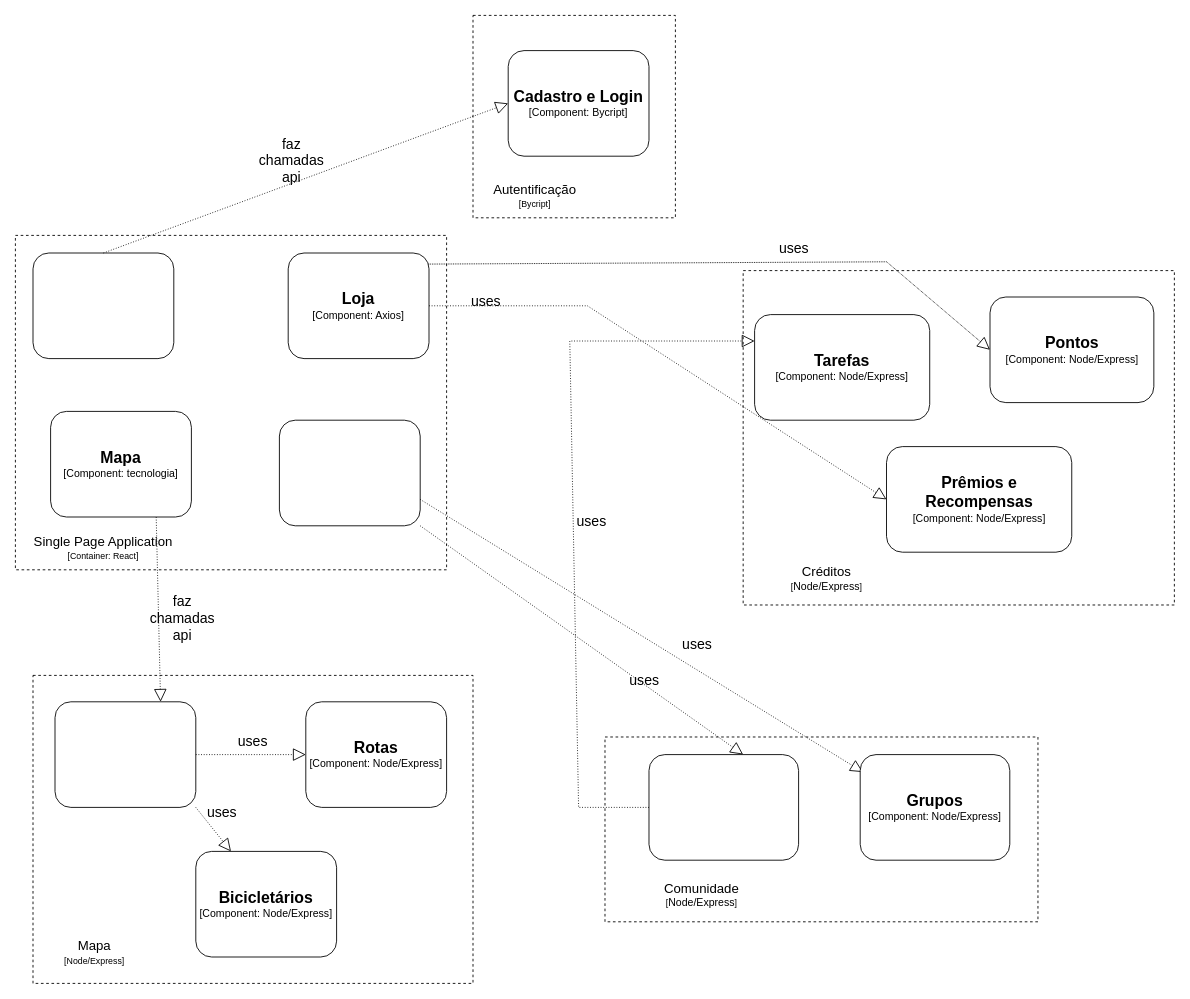
Image size: 1190x999. Some labels were removed from this diagram. The centre of each missing label's shape, as x and y in pixels:
"API do Mapa [Component: Node/Express]" goes at point (125, 754).
"Autenticação [Component: Axios]" goes at point (103, 305).
"Campanhas [Component: Node/Express ]" goes at point (723, 807).
"Comunidade [Component: Axios]" goes at point (349, 472).
